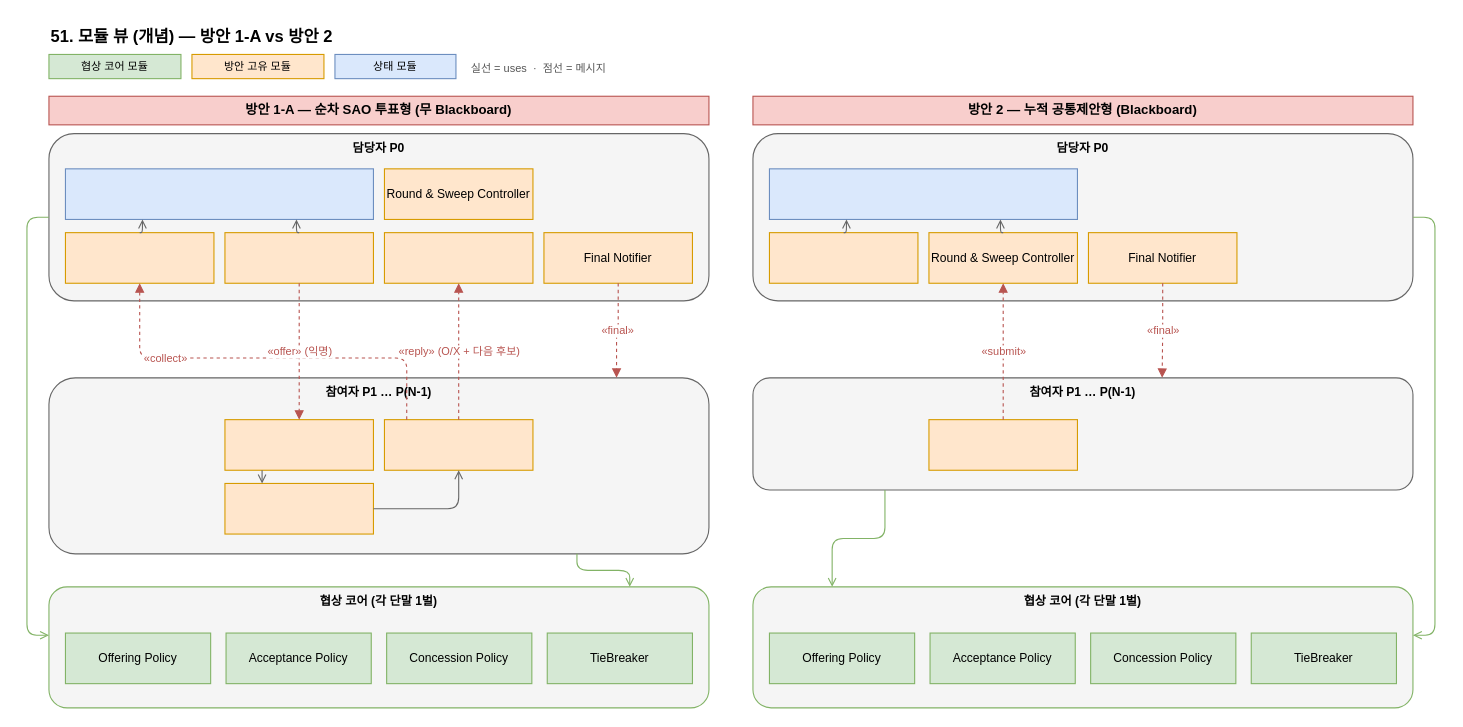
Some shapes in this 1463 by 727 pixel diagram are drawn without their labels. The centre of each missing label's shape, as x and y in pixels:
Bundled Submitter: point (458, 444)
Carry Buffer 〈라운드 휘발〉: point (218, 193)
Offer Anonymizer: point (298, 257)
Offer Receiver: point (298, 444)
Submission Store 〈누적·귀속〉: point (922, 193)
Submitter: point (1002, 444)
Sweep Collector: point (139, 257)
Unanimity Judge: point (843, 257)
Vote Aggregator: point (458, 257)
Vote Bundler: point (298, 508)
